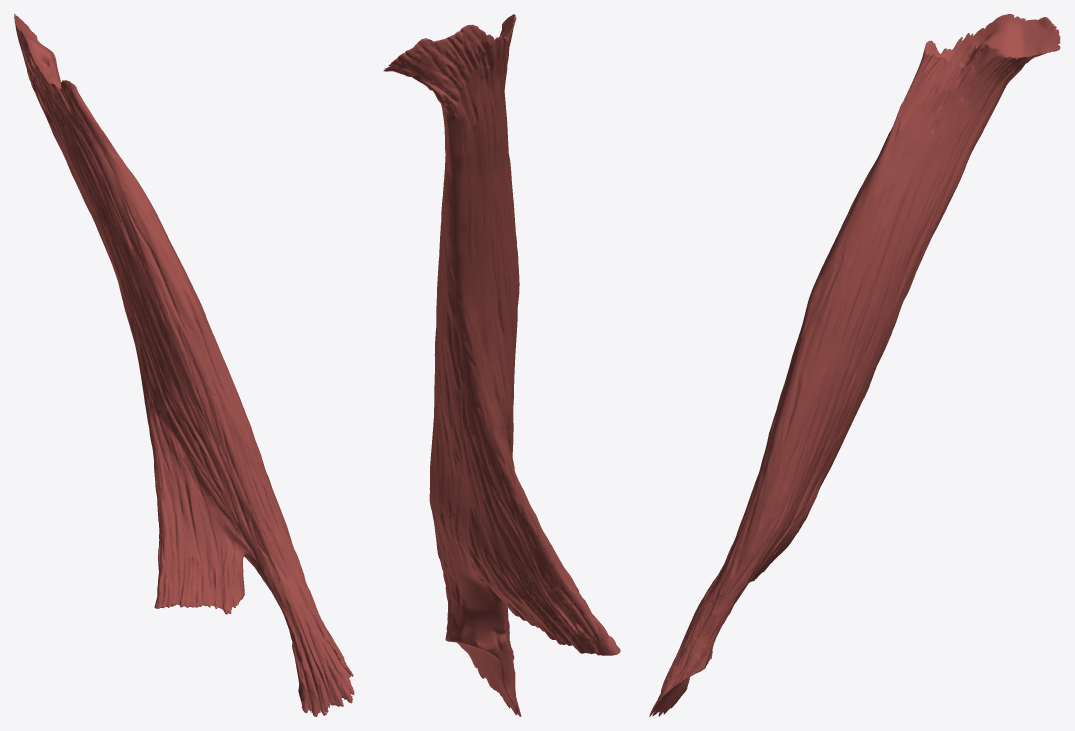
File: FMA13408.glb
3 views of the same model, side by side, from view 1: azimuth 30°, elevation 25°; view 2: azimuth 150°, elevation 25°; view 3: azimuth 270°, elevation 25° (orthographic). The views are drawn at different scales.
Visible parts, largest first — view 1: FMA13408; view 2: FMA13408; view 3: FMA13408.
Part boxes in pixels (box(x1,y1,x2,y2)): FMA13408: box(14, 14, 354, 716); FMA13408: box(383, 14, 620, 716); FMA13408: box(649, 14, 1060, 716).
Size of the model in its own units: 0.0559 by 0.1877 by 0.1102.
